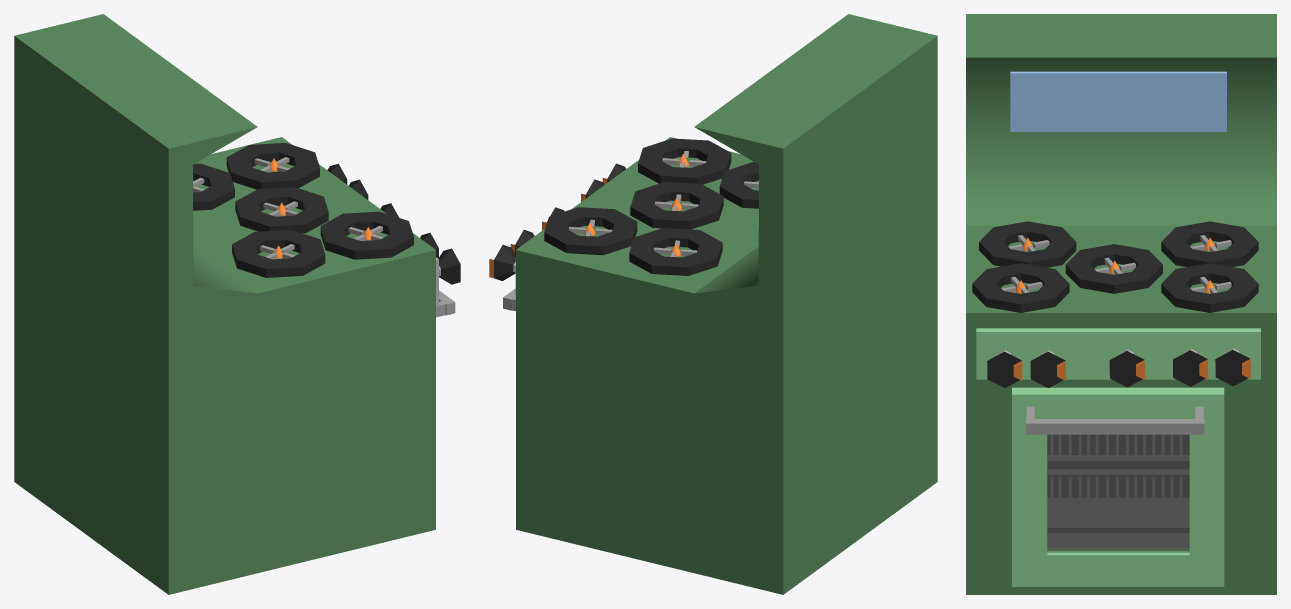
File: Stove_on.fbx
3 renders of one model, left to right at view 1: azimuth 30°, elevation 25°; view 2: azimuth 150°, elevation 25°; view 3: azimuth 270°, elevation 25°, orthographic.
Parts seen in each view (by area): view 1: Stove_On_Combined; view 2: Stove_On_Combined; view 3: Stove_On_Combined.
Boxes of the visible parts, x1,y1,x2,y2 form: Stove_On_Combined: (14, 14, 460, 594); Stove_On_Combined: (489, 14, 937, 594); Stove_On_Combined: (966, 14, 1276, 594).
Size of the model in its own units: 118 by 160 by 100.
